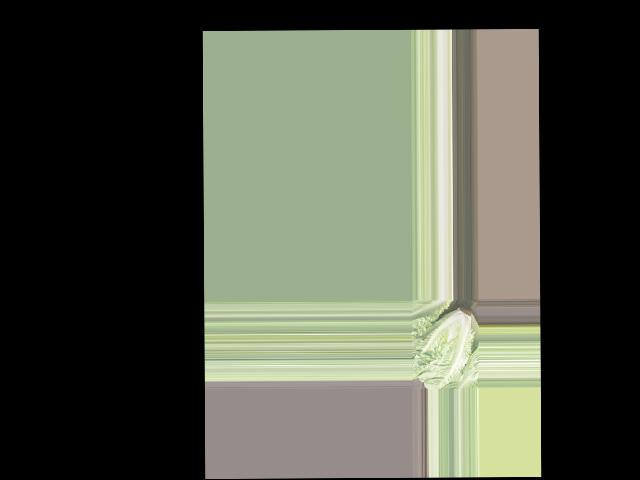lettuce: (416, 303, 480, 388)
